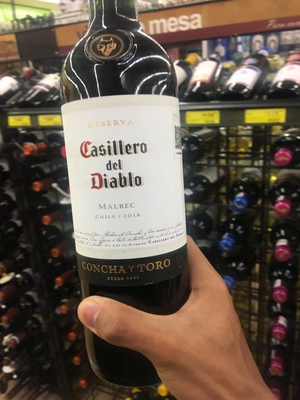casillero del diablo malbec: (49, 6, 208, 367)
